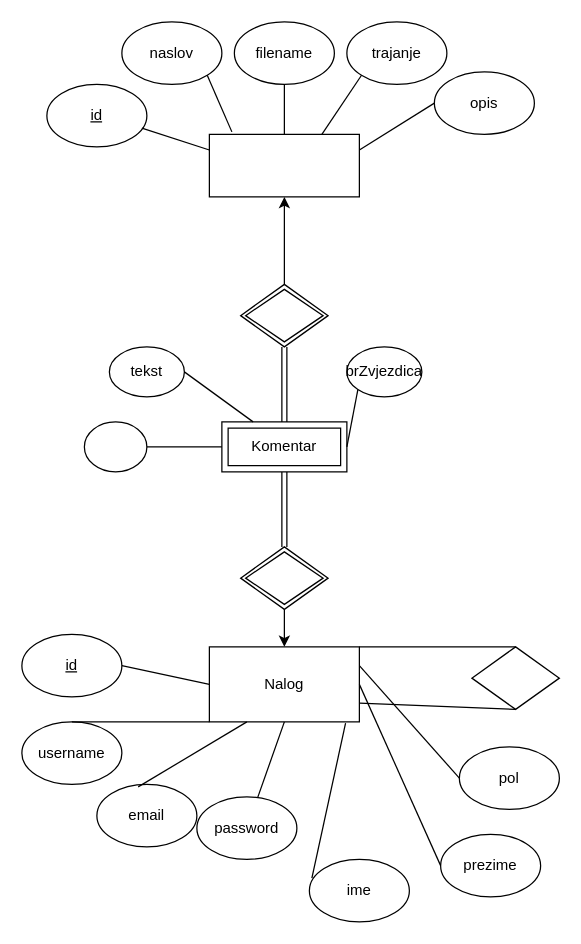
This 581x944 diagram has some shape labels left out. The shapes that lost their labels are listed below. From the top down, each one's centre as x and y in pixels, then its label:
point 283,165: Film
point 115,446: b r K o m
point 515,677: Prijatelj
